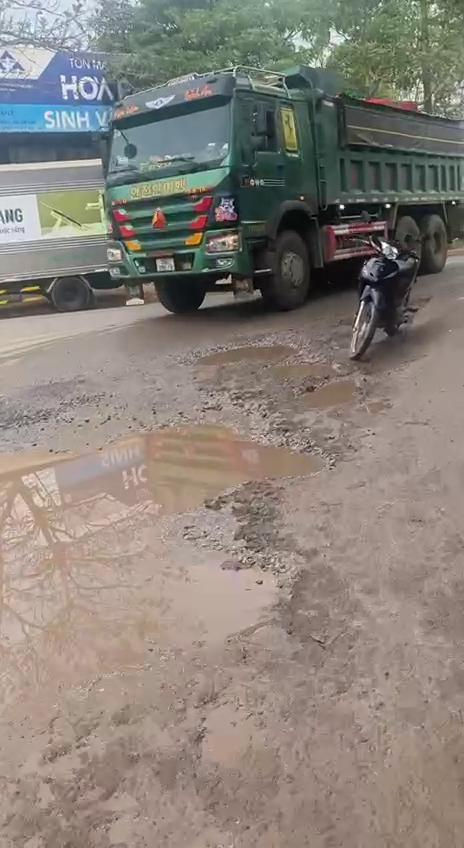pothole: (0, 408, 355, 573), (185, 334, 396, 426)
